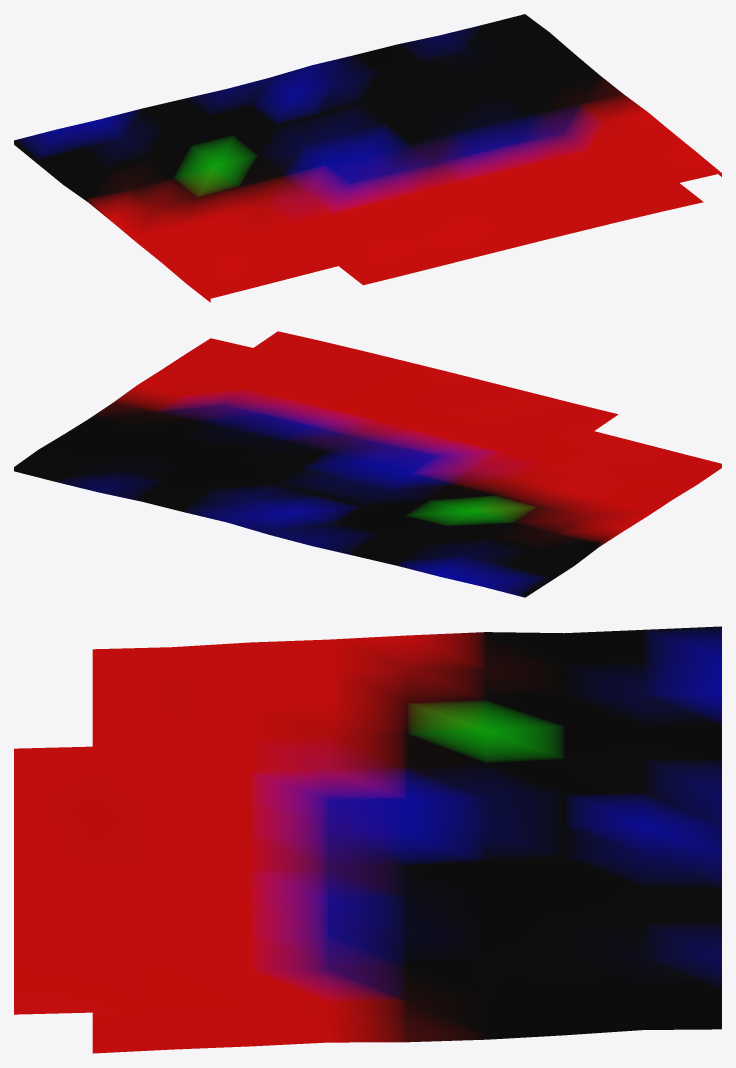
Rendered from coast_19_8.glb.
3 views of the same model, one above another, from view 1: azimuth 30°, elevation 25°; view 2: azimuth 150°, elevation 25°; view 3: azimuth 270°, elevation 25° (orthographic). The views are drawn at different scales.
Visible parts, largest first — view 1: terrain; view 2: terrain; view 3: terrain.
Boxes of the visible parts, bbox=[...] form: terrain: bbox=[14, 14, 721, 302]; terrain: bbox=[14, 331, 721, 597]; terrain: bbox=[14, 626, 721, 1053].
Size of the model in its own units: 192 by 7.76 by 144.
